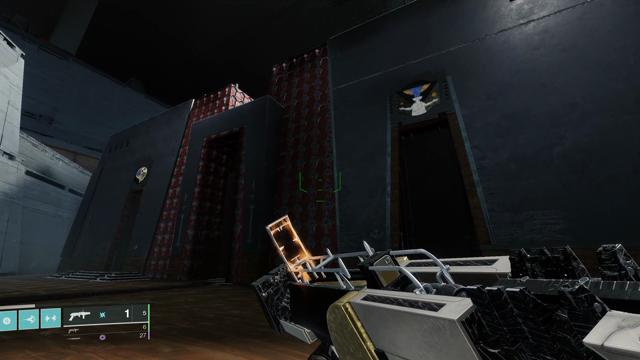brain: (133, 163, 150, 184)
drink: (397, 79, 442, 117)
